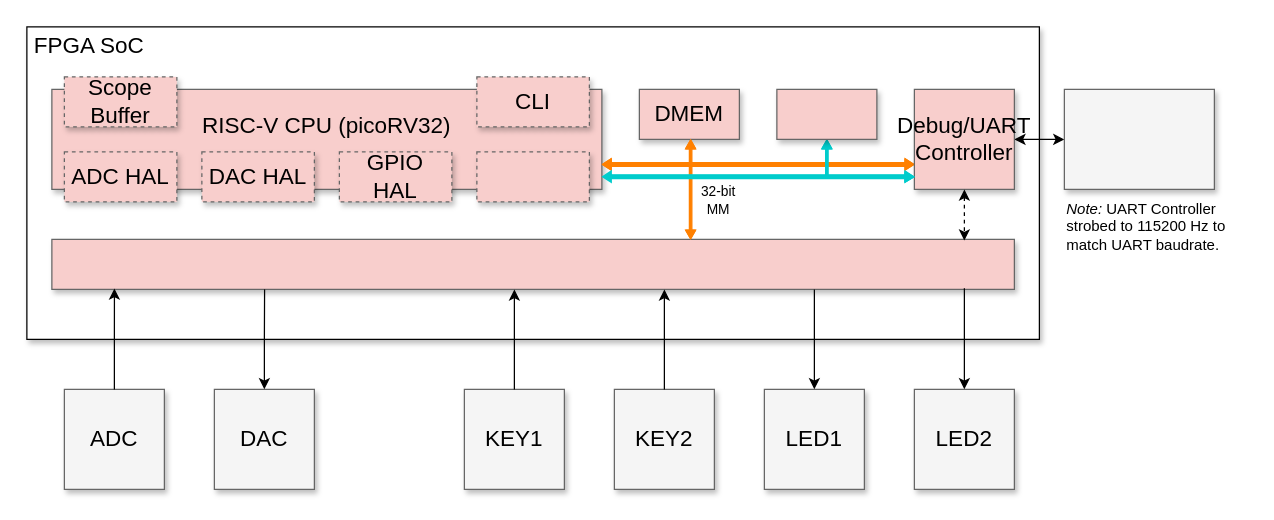
The diagram is 1274 pixels wide and 520 high, and some of its shapes have lost their labels. Here are the shapes that lost their labels. From the top down, the centre of each, then its label:
At point 827,115: "IMEM".
At point 1140,140: "USB to UART CP2102-GM".
At point 534,178: "UART HAL".
At point 534,265: "CSR".
